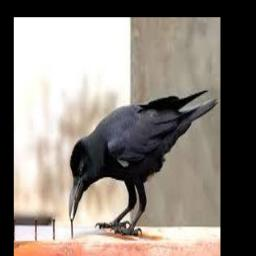Crow: (69, 88, 219, 237)
